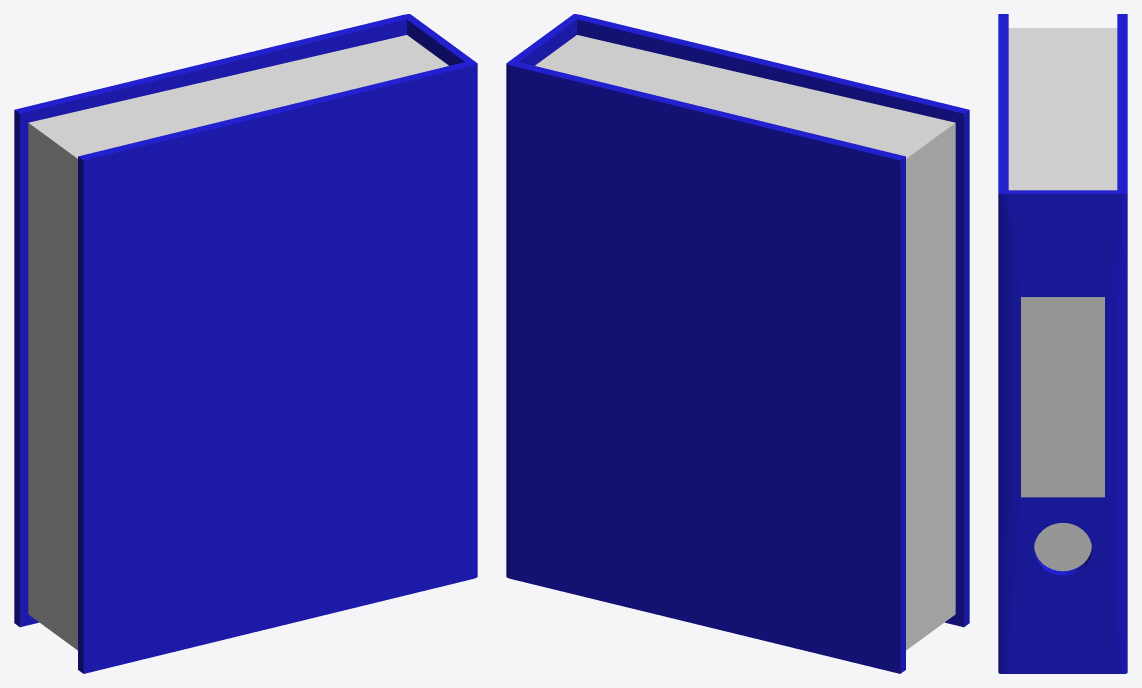
The model's file is segregator.fbx.
The picture shows the model from 3 angles, left to right: view 1: azimuth 30°, elevation 25°; view 2: azimuth 150°, elevation 25°; view 3: azimuth 270°, elevation 25°; orthographic projection. The views are drawn at different scales.
Parts seen in each view (by area): view 1: Cube; view 2: Cube; view 3: Cube.
Boxes of the visible parts, x1,y1,x2,y2 form: Cube: (14,14,477,673); Cube: (506,14,969,673); Cube: (998,14,1127,673).
Bounding box in the file's own units: 161 × 200 × 48.94.
